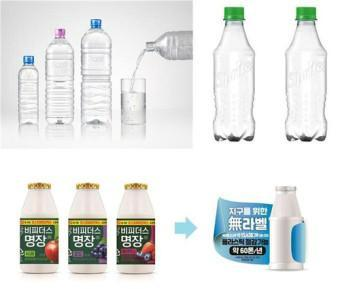bottle: (282, 7, 330, 142), (212, 5, 258, 142), (81, 18, 112, 125), (46, 28, 75, 125), (141, 29, 193, 65), (16, 55, 40, 124)
